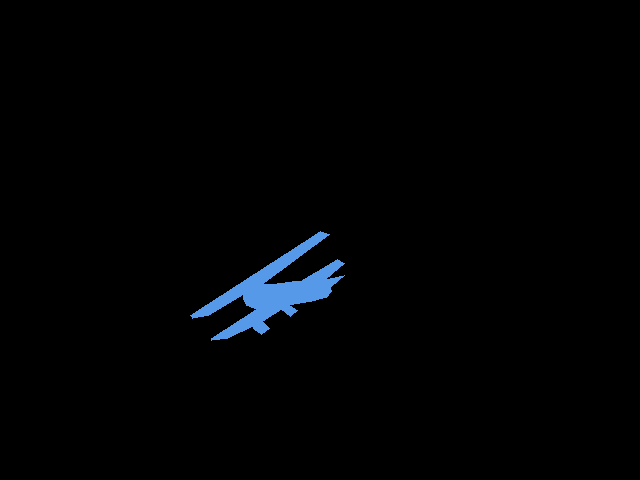Airplane: (190, 231, 344, 340)
